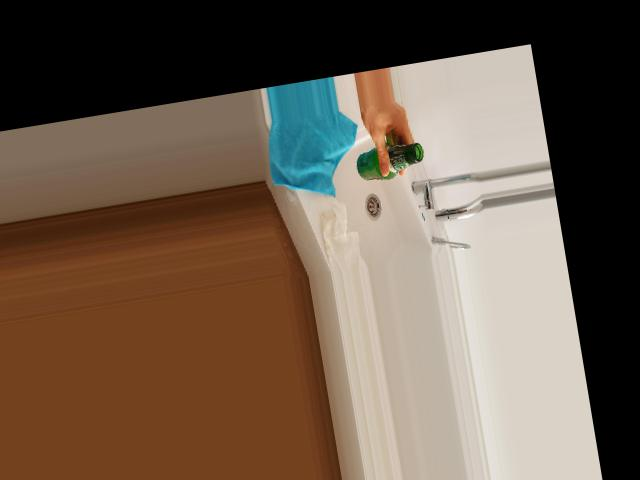beer: (353, 137, 426, 184)
